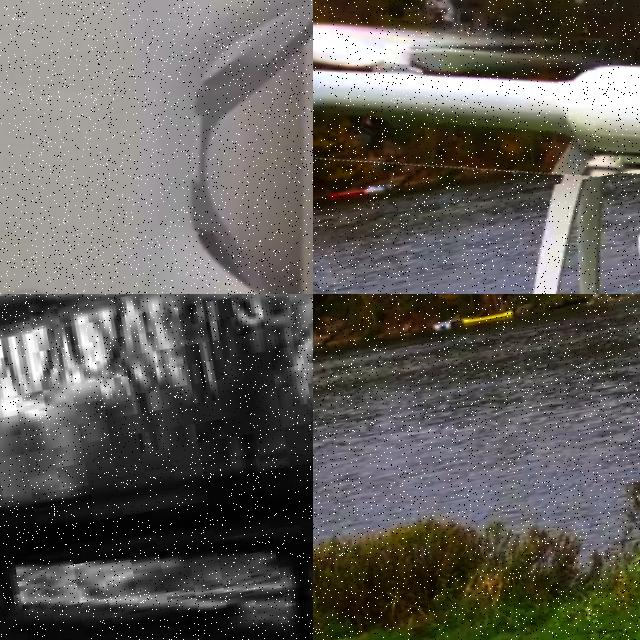drone: (0, 0, 313, 294), (313, 0, 640, 251)
